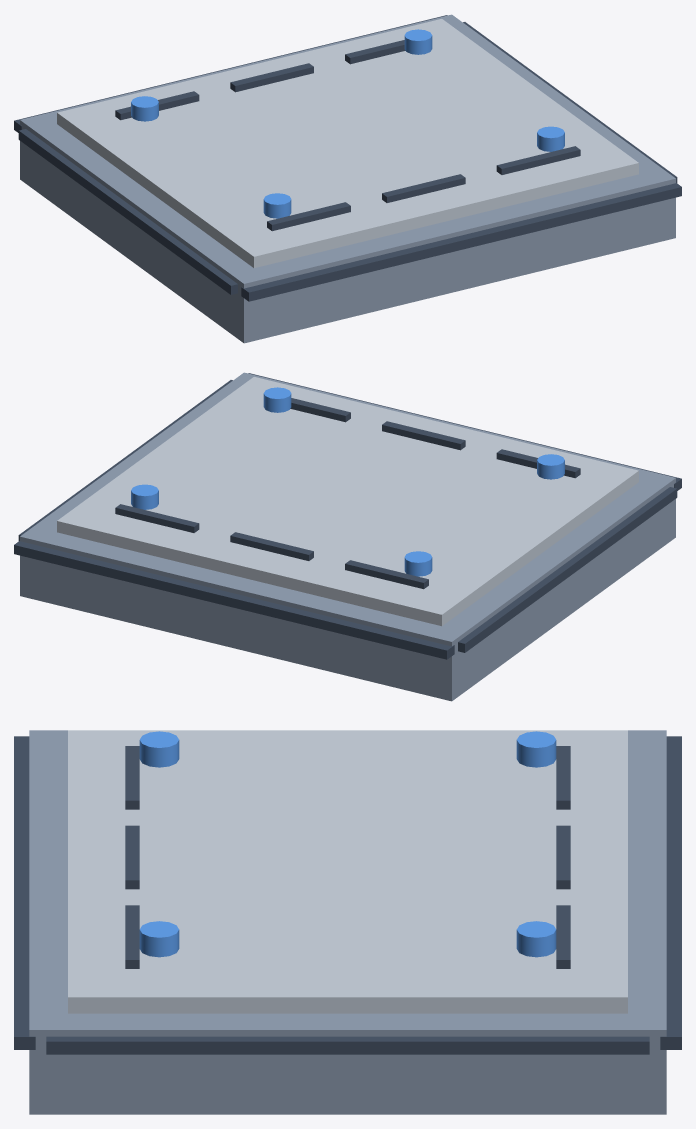
The model's file is toy_castle_brick_block.glb.
3 views of the same model, one above another, from view 1: azimuth 30°, elevation 25°; view 2: azimuth 150°, elevation 25°; view 3: azimuth 270°, elevation 25° (orthographic). The views are drawn at different scales.
Visible parts, largest first — view 1: solid_2, solid_1, solid_4, solid_5, solid_12, solid_8, solid_10, solid_11, solid_9, solid_15, solid_14, solid_6 (+4 smaller); view 2: solid_2, solid_1, solid_3, solid_5, solid_9, solid_7, solid_11, solid_8, solid_12, solid_16, solid_13, solid_6 (+4 smaller); view 3: solid_2, solid_1, solid_6, solid_3, solid_4, solid_15, solid_16, solid_13, solid_14, solid_8, solid_11, solid_7 (+3 smaller).
Part boxes in pixels (x1,y1,x2,y2): solid_2: (57,19,638,268); solid_1: (20,14,675,343); solid_4: (241,183,681,301); solid_5: (18,129,237,294); solid_12: (496,146,580,174); solid_8: (230,63,313,92); solid_10: (267,202,350,231); solid_11: (382,174,465,202); solid_9: (345,40,405,64); solid_15: (404,29,432,54); solid_14: (263,193,291,218); solid_6: (463,22,677,182); solid_2: (57,377,638,626); solid_1: (20,372,675,701); solid_3: (14,541,454,659); solid_5: (458,487,677,652); solid_9: (115,504,199,532); solid_7: (345,560,428,589); solid_11: (382,421,465,450); solid_8: (230,532,313,560); solid_12: (290,398,350,422); solid_16: (263,387,291,412); solid_13: (404,551,432,576); solid_6: (18,380,232,540); solid_2: (68,730,627,1013); solid_1: (29,730,666,1114); solid_6: (46,1036,649,1054); solid_3: (660,736,681,1049); solid_4: (14,736,35,1049); solid_15: (516,921,556,957); solid_16: (139,921,179,957); solid_13: (516,731,556,767); solid_14: (139,731,179,767); solid_8: (556,825,570,889); solid_11: (125,825,139,889); solid_7: (556,746,570,809).
Size of the model in its own units: 4.08 by 0.8 by 3.72.
